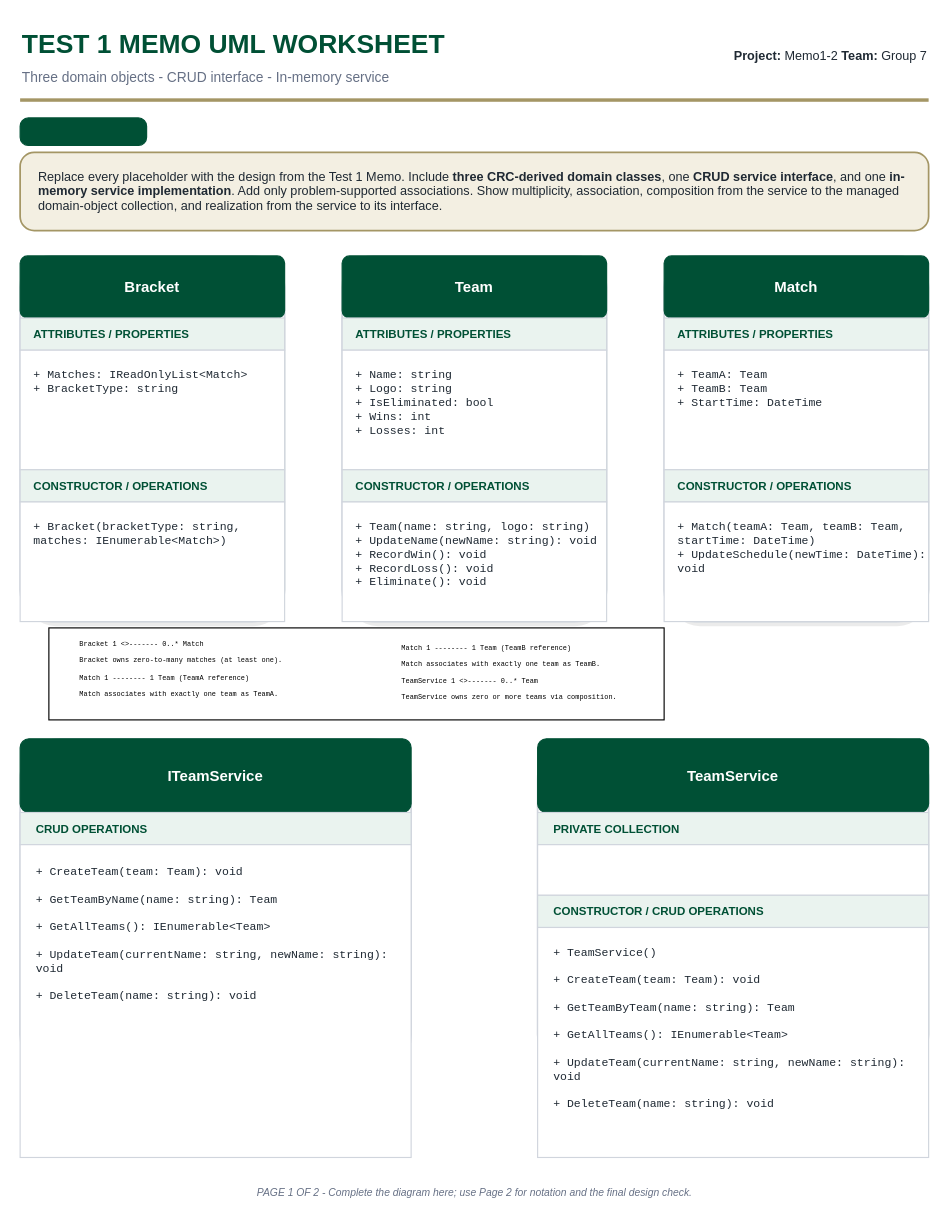
Some shapes in this 950 by 1226 pixel diagram are drawn without their labels. The shapes that lost their labels are listed below. From the top down, each one's centre as x and y in pixels, then its label:
[83,131]: DIRECTIONS
[732,869]: - _teams: List<Team>
